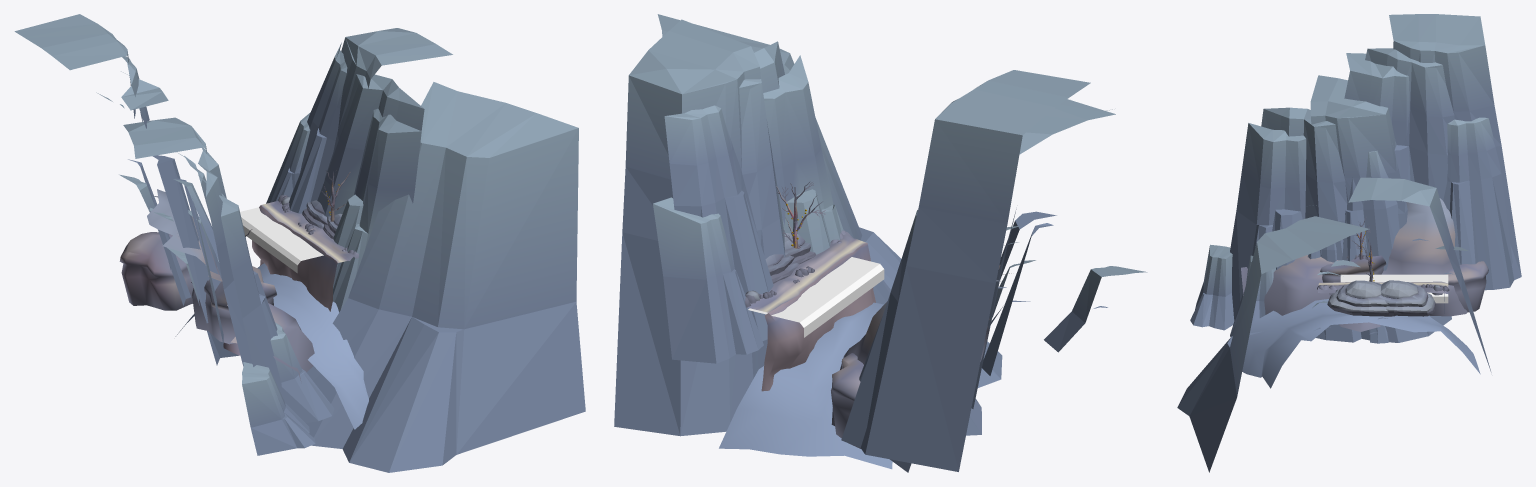
The model's file is Arctic_Narrows_Left_Transition_Pre_A.glb.
3 views of the same model, side by side, from view 1: azimuth 30°, elevation 25°; view 2: azimuth 150°, elevation 25°; view 3: azimuth 270°, elevation 25° (orthographic). The views are drawn at different scales.
Visible parts, largest first — view 1: Arctic_Narrows_Left_IceWall_A02_Right, Arctic_Narrows_Left_Transition_Pre_A, Arctic_Narrows_Left_IceWall_A02, Arctic_Narrows_Right_IceWall_A01, Arctic_Narrows_Right_IceWall_A02, Arctic_Narrows_Right_IceWall_A01_Left, Arctic_Narrows_Left_IceWall_A02_Left, inv_fill, Arctic_Narrows_Right_IceWall_A02_Mid, Arctic_Narrows_Right_IceWall_A02_Left, Arctic_Narrows_Right_IceWall_A01_Right; view 2: Arctic_Narrows_Left_IceWall_A02, Arctic_Narrows_Right_IceWall_A02, Arctic_Narrows_Left_IceWall_A02_Left, Arctic_Narrows_Left_Transition_Pre_A, Arctic_Narrows_Left_IceWall_A02_Right, Arctic_Narrows_Right_IceWall_A01, inv_fill, Arctic_Narrows_Right_IceWall_A02_Right, Arctic_Narrows_Right_IceWall_A01_Left; view 3: Arctic_Narrows_Right_IceWall_A01, Arctic_Narrows_Right_IceWall_A02, Arctic_Narrows_Left_Transition_Pre_A, Arctic_Narrows_Left_IceWall_A02_Right, Arctic_Narrows_Right_IceWall_A02_Right, Arctic_Narrows_Right_IceWall_A01_Mid, Arctic_Narrows_Right_IceWall_A01_Left, Arctic_Narrows_Left_IceWall_A02, Arctic_Narrows_Right_Snow_A01 (×2), Arctic_Narrows_Right_Snow_A01_Top (×2), Arctic_Narrows_Right_Snow_A01_Mid (×2), inv_fill.
Part boxes in pixels (bbox=[...]): Arctic_Narrows_Left_IceWall_A02_Right: bbox=[306, 82, 585, 472]; Arctic_Narrows_Left_Transition_Pre_A: bbox=[119, 189, 368, 429]; Arctic_Narrows_Left_IceWall_A02: bbox=[317, 28, 452, 312]; Arctic_Narrows_Right_IceWall_A01: bbox=[123, 117, 284, 400]; Arctic_Narrows_Right_IceWall_A02: bbox=[14, 14, 223, 344]; Arctic_Narrows_Right_IceWall_A01_Left: bbox=[242, 322, 334, 455]; Arctic_Narrows_Left_IceWall_A02_Left: bbox=[266, 42, 347, 213]; inv_fill: bbox=[240, 207, 323, 273]; Arctic_Narrows_Right_IceWall_A02_Mid: bbox=[119, 174, 190, 305]; Arctic_Narrows_Right_IceWall_A02_Left: bbox=[173, 179, 221, 278]; Arctic_Narrows_Right_IceWall_A01_Right: bbox=[162, 244, 238, 365]; Arctic_Narrows_Left_IceWall_A02: bbox=[614, 19, 843, 436]; Arctic_Narrows_Right_IceWall_A02: bbox=[861, 70, 1090, 471]; Arctic_Narrows_Left_IceWall_A02_Left: bbox=[653, 105, 773, 363]; Arctic_Narrows_Left_Transition_Pre_A: bbox=[719, 230, 1011, 469]; Arctic_Narrows_Left_IceWall_A02_Right: bbox=[657, 14, 1002, 435]; Arctic_Narrows_Right_IceWall_A01: bbox=[890, 99, 1115, 472]; inv_fill: bbox=[748, 257, 884, 337]; Arctic_Narrows_Right_IceWall_A02_Right: bbox=[841, 210, 917, 447]; Arctic_Narrows_Right_IceWall_A01_Left: bbox=[990, 260, 1147, 352]; Arctic_Narrows_Right_IceWall_A01: bbox=[1230, 75, 1451, 342]; Arctic_Narrows_Right_IceWall_A02: bbox=[1344, 14, 1521, 279]; Arctic_Narrows_Left_Transition_Pre_A: bbox=[1241, 198, 1488, 388]; Arctic_Narrows_Left_IceWall_A02_Right: bbox=[1177, 216, 1369, 472]; Arctic_Narrows_Right_IceWall_A02_Right: bbox=[1443, 117, 1514, 290]; Arctic_Narrows_Right_IceWall_A01_Mid: bbox=[1307, 150, 1399, 270]; Arctic_Narrows_Right_IceWall_A01_Left: bbox=[1190, 244, 1275, 336]; Arctic_Narrows_Left_IceWall_A02: bbox=[1313, 177, 1491, 372]; Arctic_Narrows_Right_Snow_A01 (×2): bbox=[1327, 289, 1435, 316]; Arctic_Narrows_Right_Snow_A01_Top (×2): bbox=[1345, 280, 1418, 298]; Arctic_Narrows_Right_Snow_A01_Mid (×2): bbox=[1336, 282, 1428, 306]; inv_fill: bbox=[1340, 274, 1448, 303].
Size of the model in its own units: 31.57 by 25.27 by 26.63.
